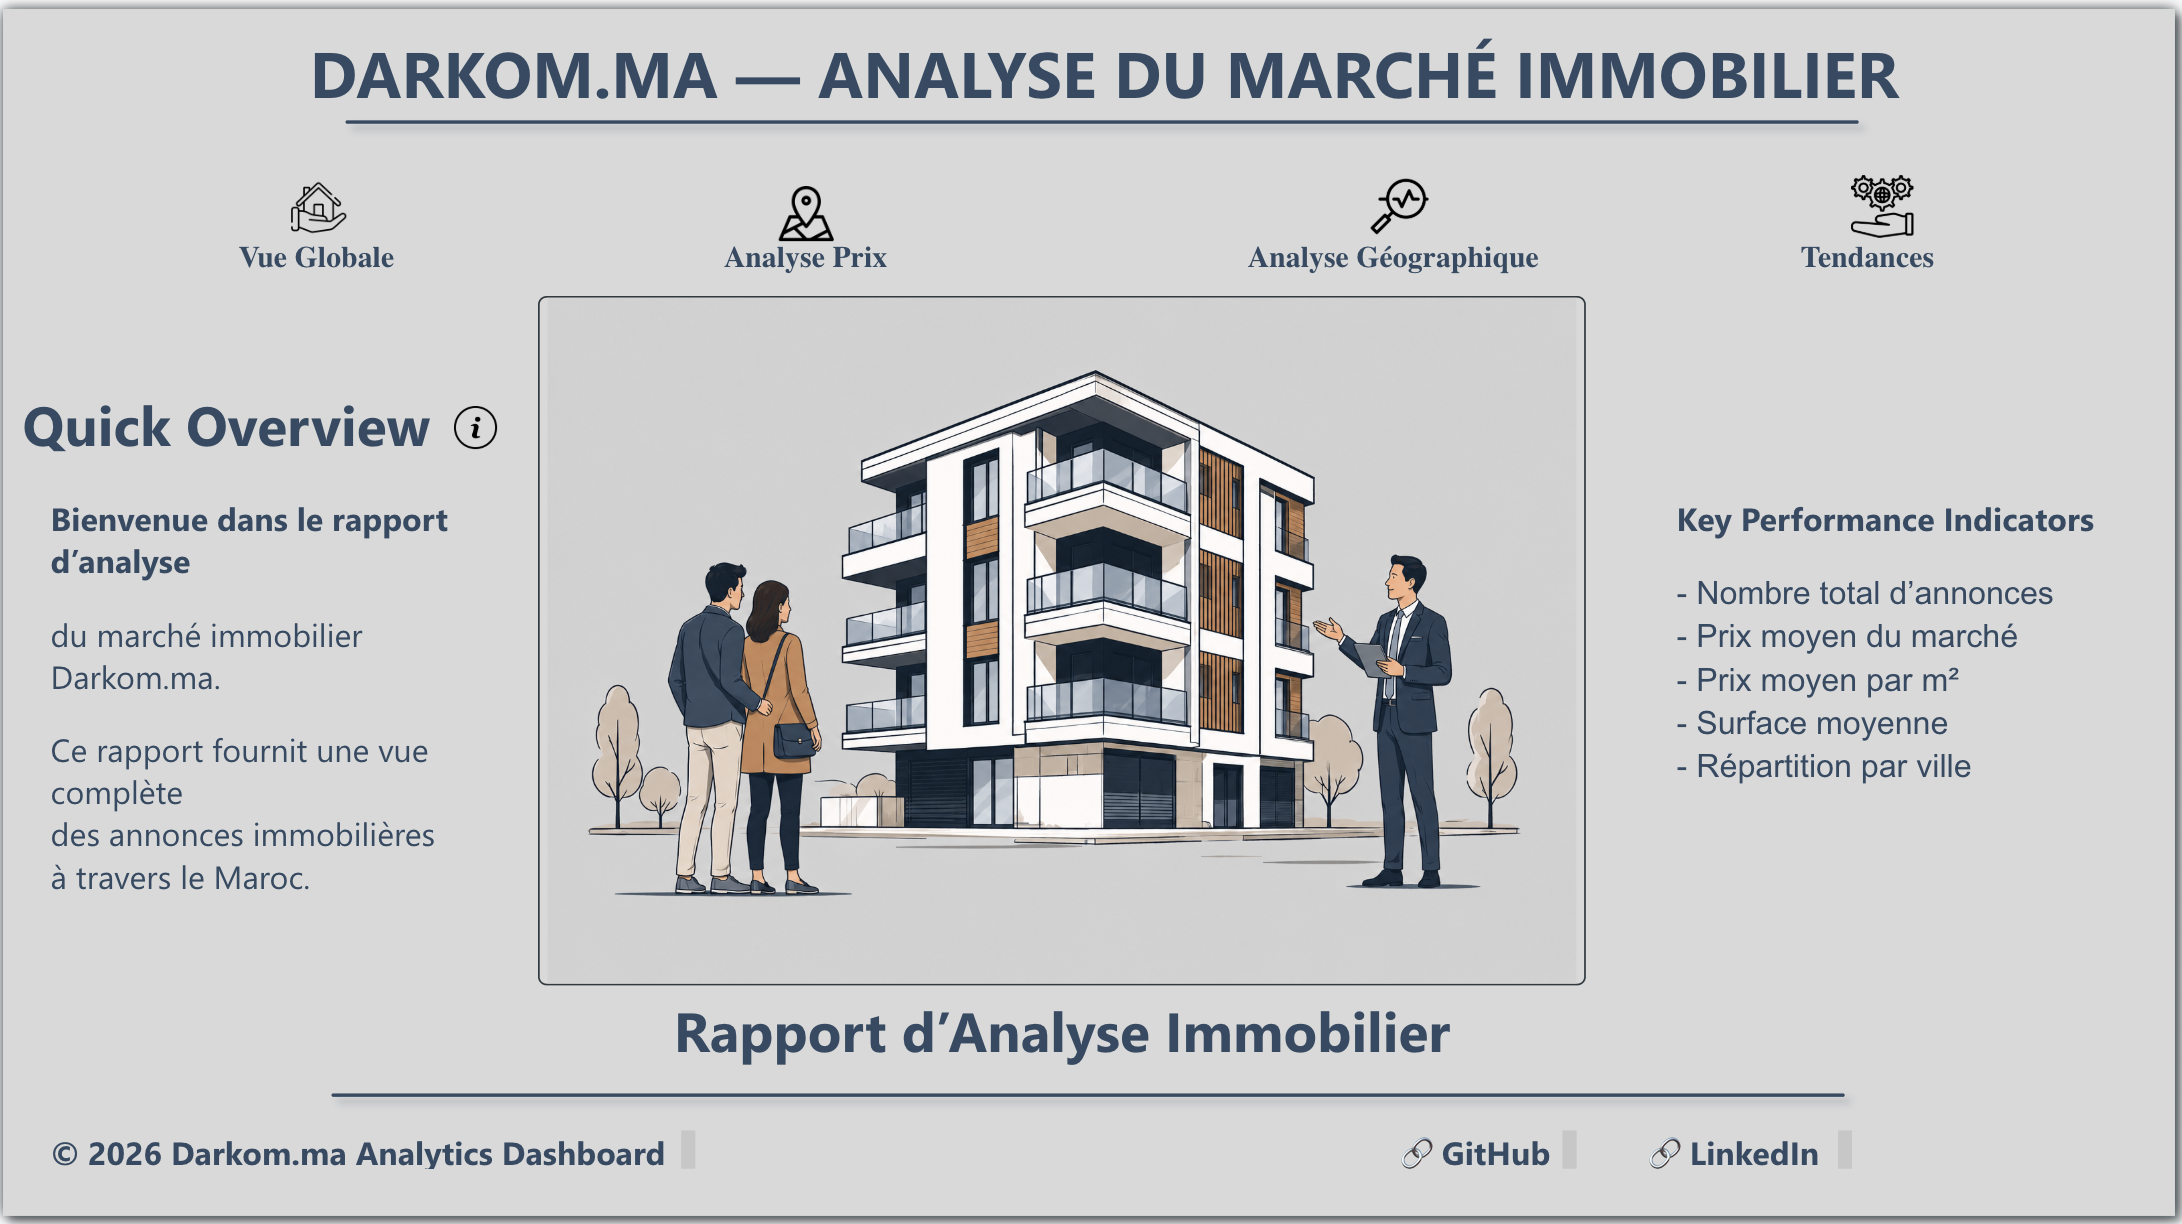

This screenshot's page, from the dashboard's own definition file:
{"tool":"powerbi","page":{"name":"Home","canvas":[1280,720],"ordinal":0},"visuals":[{"type":"shape","box":[0,0,1280,720],"z":0},{"type":"textbox","box":[152,16,984,72],"z":1000},{"type":"shape","box":[200,40,896,72],"z":2000},{"type":"shape","title":"Vue Globale","box":[128,144,128,64],"z":3000},{"type":"shape","title":"Analyse Prix","box":[416,144,120,64],"z":4000},{"type":"shape","title":"Analyse Géographique","box":[712,144,208,64],"z":5000},{"type":"shape","title":"Tendances","box":[1032,144,120,64],"z":6000},{"type":"image","box":[145.4,109,96,32],"z":7000},{"type":"actionButton","box":[128,104,128,72],"z":8000},{"type":"image","box":[768,104,104,40],"z":9000},{"type":"image","box":[448,112,56,32],"z":10000},{"type":"image","box":[1072,104,56,40],"z":11000},{"type":"actionButton","box":[416,104,120,72],"z":12000},{"type":"actionButton","box":[704,88,216,96],"z":13000},{"type":"actionButton","box":[1032,88,136,96],"z":14000},{"type":"image","box":[320,176,608,400],"z":15000},{"type":"textbox","box":[32,288,256,256],"z":16000},{"type":"textbox","box":[976,288,256,208],"z":17000},{"type":"textbox","box":[320,576,608,64],"z":18000},{"type":"shape","box":[192,608,896,64],"z":19000},{"type":"textbox","box":[16,224,256,64],"z":20000},{"type":"image","box":[272,240,25,25],"z":21000},{"type":"textbox","box":[32,656,384,32],"z":25000},{"type":"textbox","box":[960,656,128,32],"z":26000},{"type":"textbox","box":[816,656,112,32],"z":27000},{"type":"actionButton","box":[816,656,128,48],"z":28000},{"type":"actionButton","box":[960,656,144,48],"z":29000}]}

Visuals, with their boxes in screenshot pixels (x1, y1, x2, y2), scaled from the page's 1280x720 canvas onto the 2182x1224 screenshot:
shape: 0,0,2181,1223
textbox: 259,27,1937,150
shape: 341,68,1868,190
"Vue Globale" shape: 218,245,436,354
"Analyse Prix" shape: 709,245,914,354
"Analyse Géographique" shape: 1214,245,1568,354
"Tendances" shape: 1759,245,1964,354
image: 248,185,412,240
actionButton: 218,177,436,299
image: 1309,177,1486,245
image: 764,190,859,245
image: 1827,177,1923,245
actionButton: 709,177,914,299
actionButton: 1200,150,1568,313
actionButton: 1759,150,1991,313
image: 546,299,1582,979
textbox: 55,490,491,925
textbox: 1664,490,2100,843
textbox: 546,979,1582,1088
shape: 327,1034,1855,1142
textbox: 27,381,464,490
image: 464,408,506,450
textbox: 55,1115,709,1170
textbox: 1636,1115,1855,1170
textbox: 1391,1115,1582,1170
actionButton: 1391,1115,1609,1197
actionButton: 1636,1115,1882,1197
